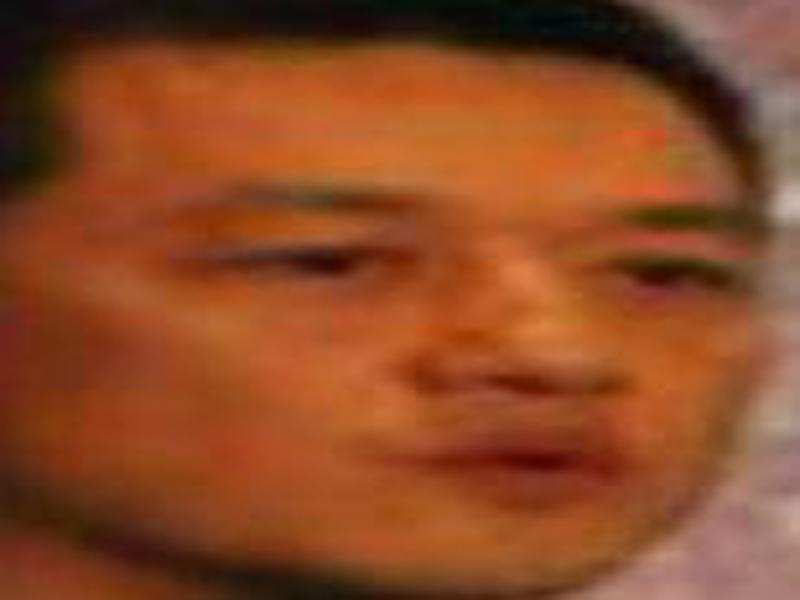without_mask: (21, 46, 757, 593)
